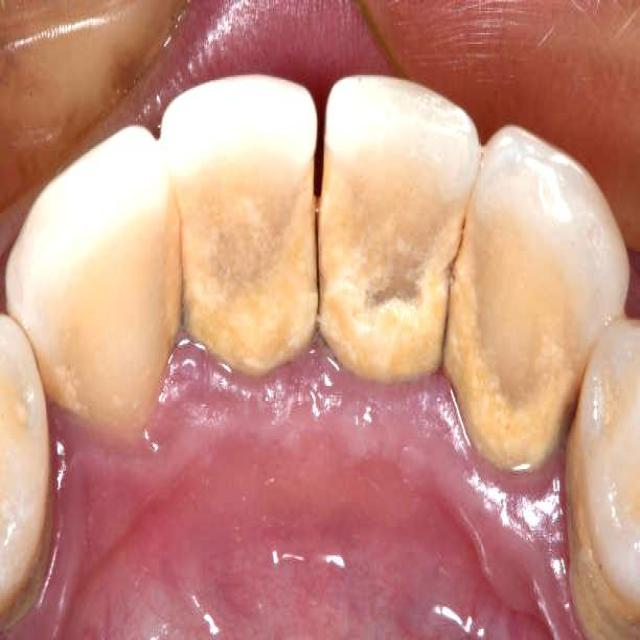calculus: (186, 166, 306, 362), (321, 166, 436, 368), (456, 210, 536, 474), (566, 408, 621, 640), (126, 211, 190, 365)
